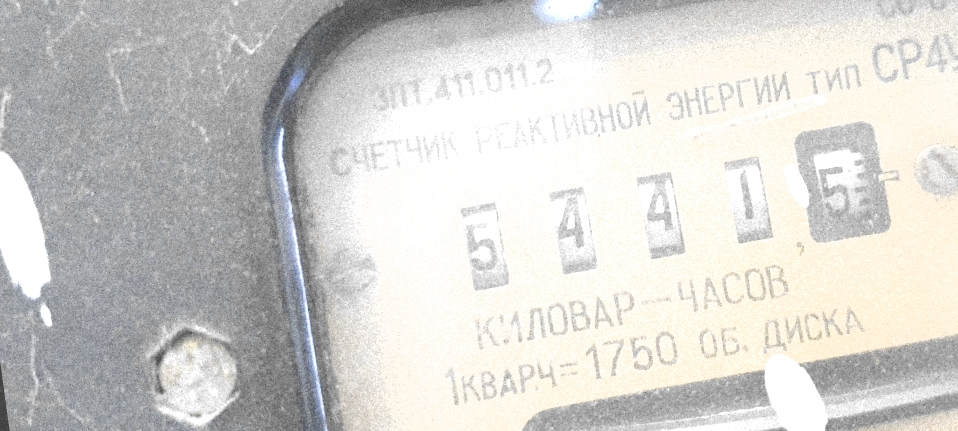1: (729, 164, 760, 224)
4: (635, 171, 680, 241), (548, 189, 591, 254)
5: (813, 157, 856, 224), (458, 214, 504, 276)
screen: (428, 93, 919, 321)
